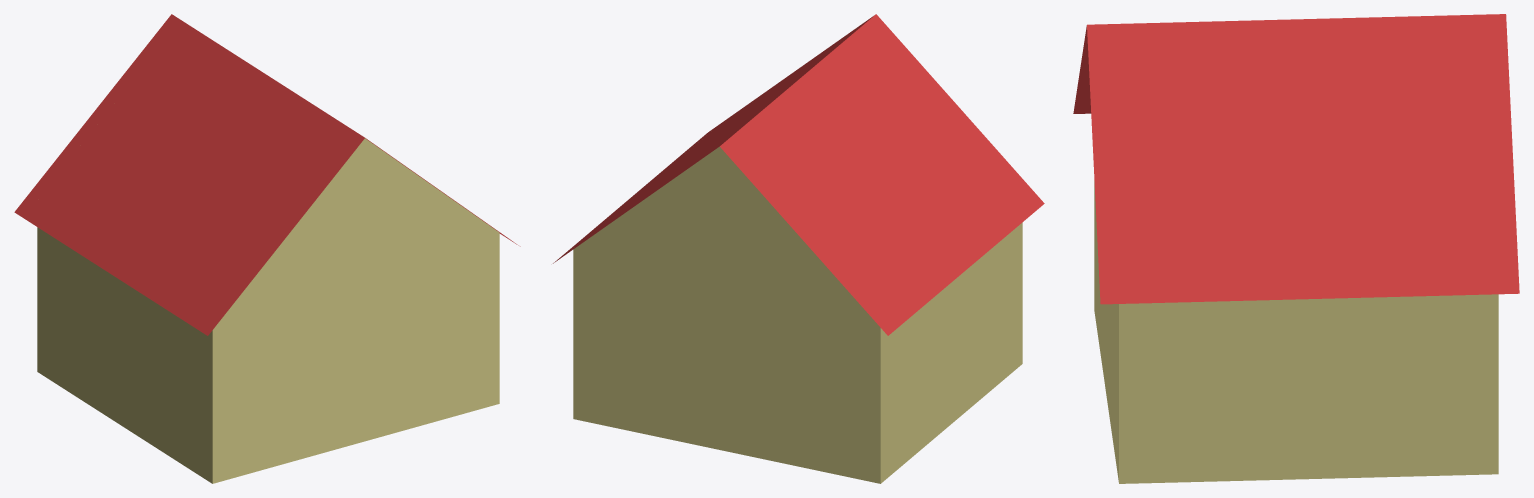
3 renders of one model, left to right at view 1: azimuth 30°, elevation 25°; view 2: azimuth 150°, elevation 25°; view 3: azimuth 270°, elevation 25°, orthographic. The views are drawn at different scales.
Size of the model in its own units: 12.01 by 11.27 by 10.39.
